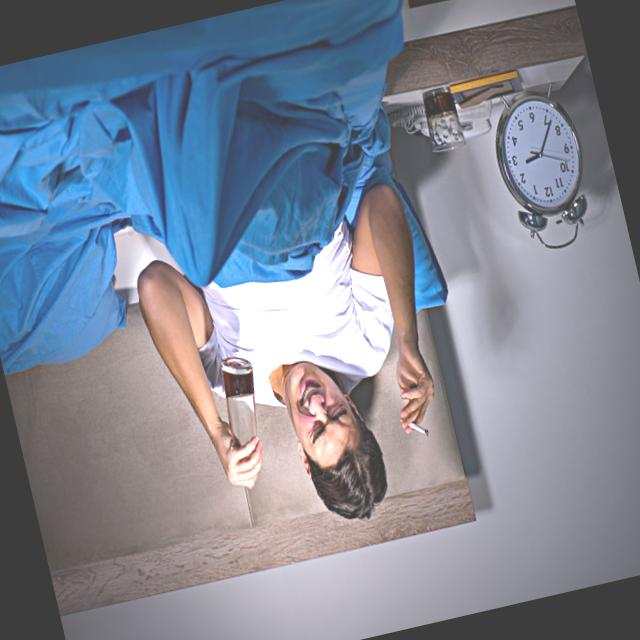cigarette: (404, 414, 430, 440)
